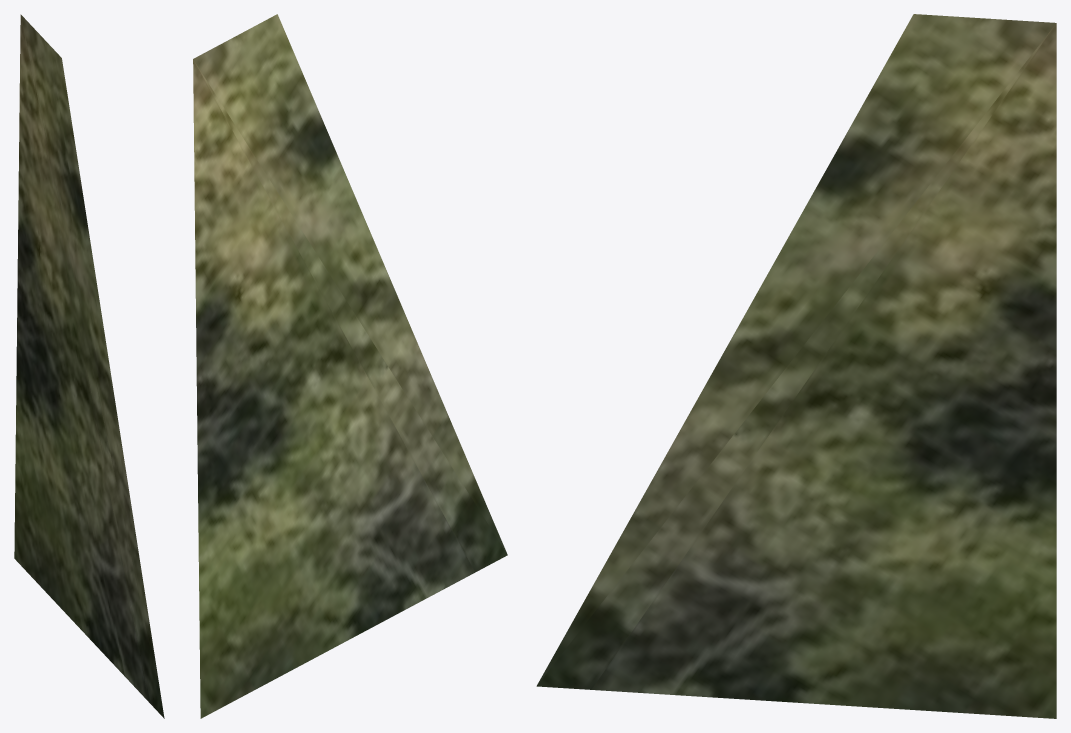
The picture shows the model from 3 angles, left to right: view 1: azimuth 30°, elevation 25°; view 2: azimuth 150°, elevation 25°; view 3: azimuth 270°, elevation 25°; orthographic projection. The views are drawn at different scales.
Bounding box in the file's own units: 0.6582 × 5.9 × 3.97.
1 material, 1 textured.
